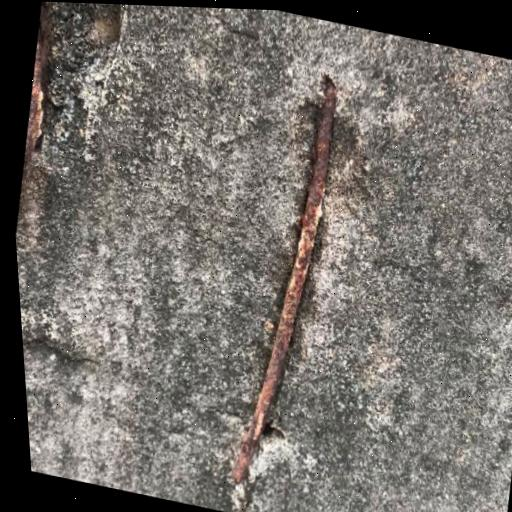exposed_rebar: (230, 80, 336, 483)
spalling: (24, 2, 122, 161)
